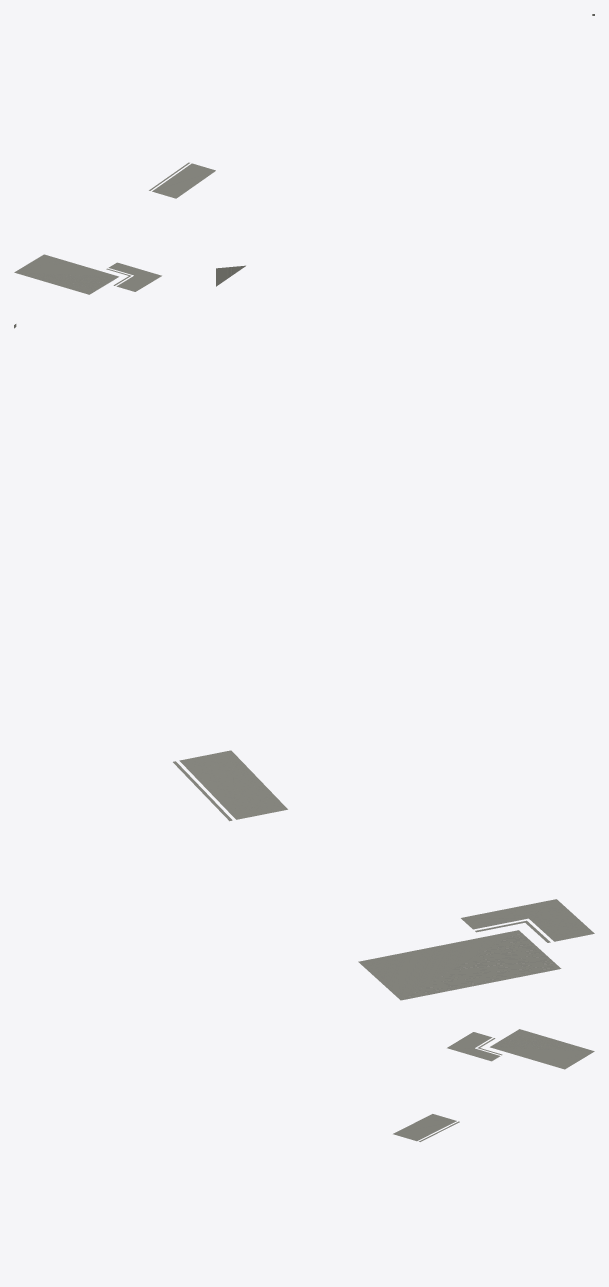
Rendered from kd_stage_136282_5_31_bounded.glb.
3 views of the same model, one above another, from view 1: azimuth 90°, elevation 25°; view 2: azimuth 150°, elevation 25°; view 3: azimuth 270°, elevation 25° (orthographic). The views are drawn at different scales.
Visible parts, largest first — view 1: kd_stage_136282_5_31_bounded; view 2: kd_stage_136282_5_31_bounded; view 3: kd_stage_136282_5_31_bounded.
Boxes of the visible parts, x1,y1,x2,y2 form: kd_stage_136282_5_31_bounded: (14, 14, 594, 294); kd_stage_136282_5_31_bounded: (14, 324, 594, 1000); kd_stage_136282_5_31_bounded: (393, 1029, 594, 1141).
Bounding box in the file's own units: 63.83 × 4.3 × 59.94.
Materials: 1 (1 with a texture image).
